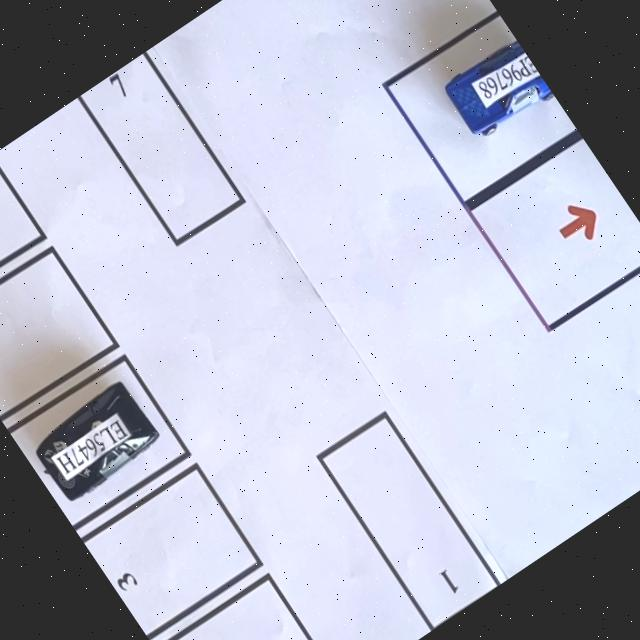car: (21, 372, 167, 510), (434, 30, 556, 149)
